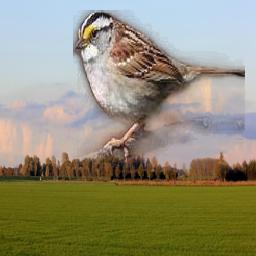Sparrow: (73, 11, 245, 164)
